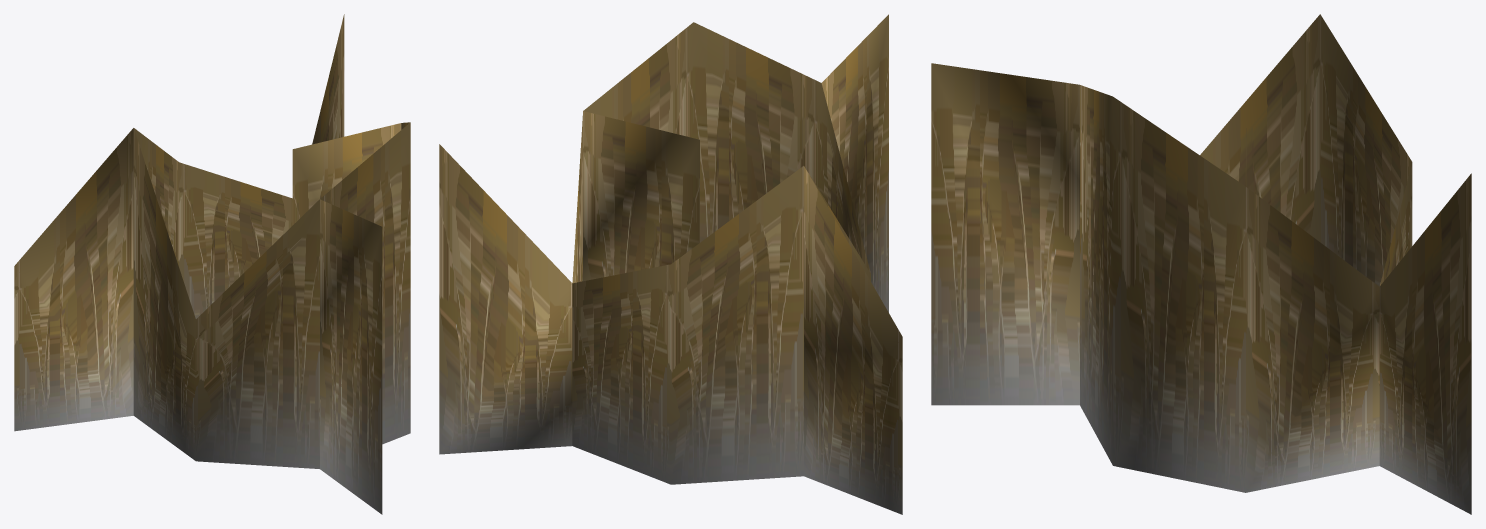
The model's file is mveg2at.glb.
The picture shows the model from 3 angles, left to right: view 1: azimuth 30°, elevation 25°; view 2: azimuth 150°, elevation 25°; view 3: azimuth 270°, elevation 25°; orthographic projection. The views are drawn at different scales.
Visible parts, largest first — view 1: _mveg2at; view 2: _mveg2at; view 3: _mveg2at.
Boxes of the visible parts, x1=… form: _mveg2at: x1=14, y1=14, x2=410, y2=514; _mveg2at: x1=439, y1=14, x2=902, y2=514; _mveg2at: x1=931, y1=14, x2=1471, y2=514.
Bounding box in the file's own units: 4.71 × 3.69 × 4.89.
1 material, 1 textured.
